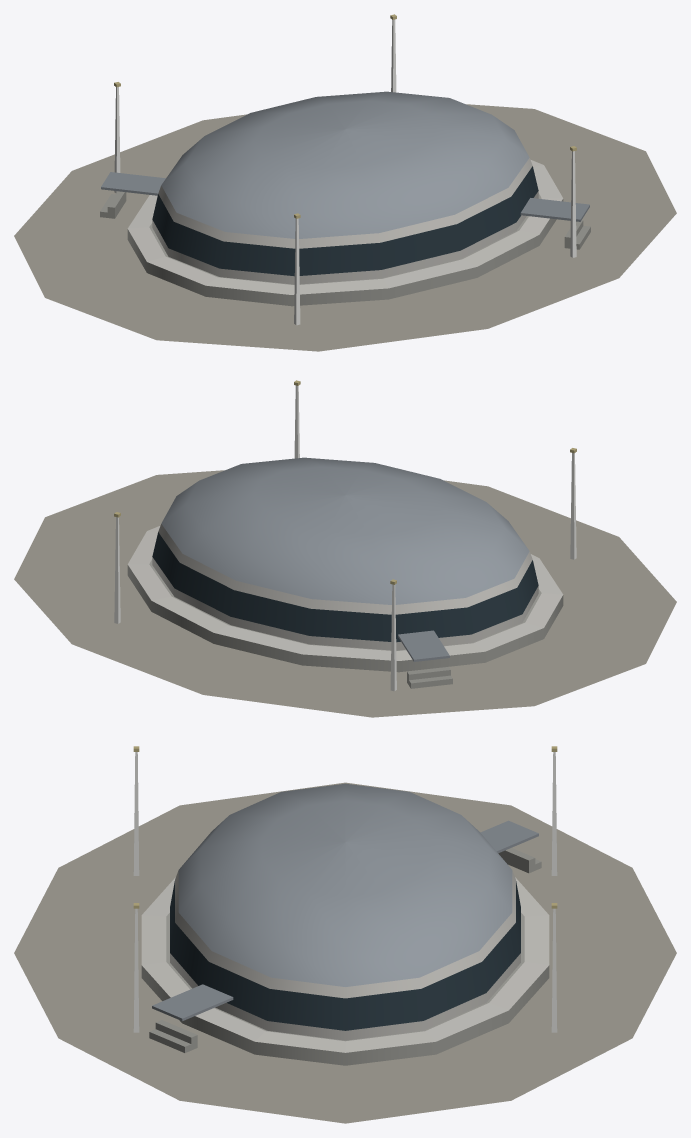
File: mobile-low.glb
3 views of the same model, one above another, from view 1: azimuth 30°, elevation 25°; view 2: azimuth 150°, elevation 25°; view 3: azimuth 270°, elevation 25° (orthographic). The views are drawn at different scales.
Parts seen in each view (by area): view 1: lm.mission-bay-arena; view 2: lm.mission-bay-arena; view 3: lm.mission-bay-arena.
Boxes of the visible parts, bbox=[...] form: lm.mission-bay-arena: bbox=[14, 14, 676, 351]; lm.mission-bay-arena: bbox=[14, 380, 676, 717]; lm.mission-bay-arena: bbox=[14, 746, 676, 1123].
Size of the model in its own units: 224 by 41 by 184.
